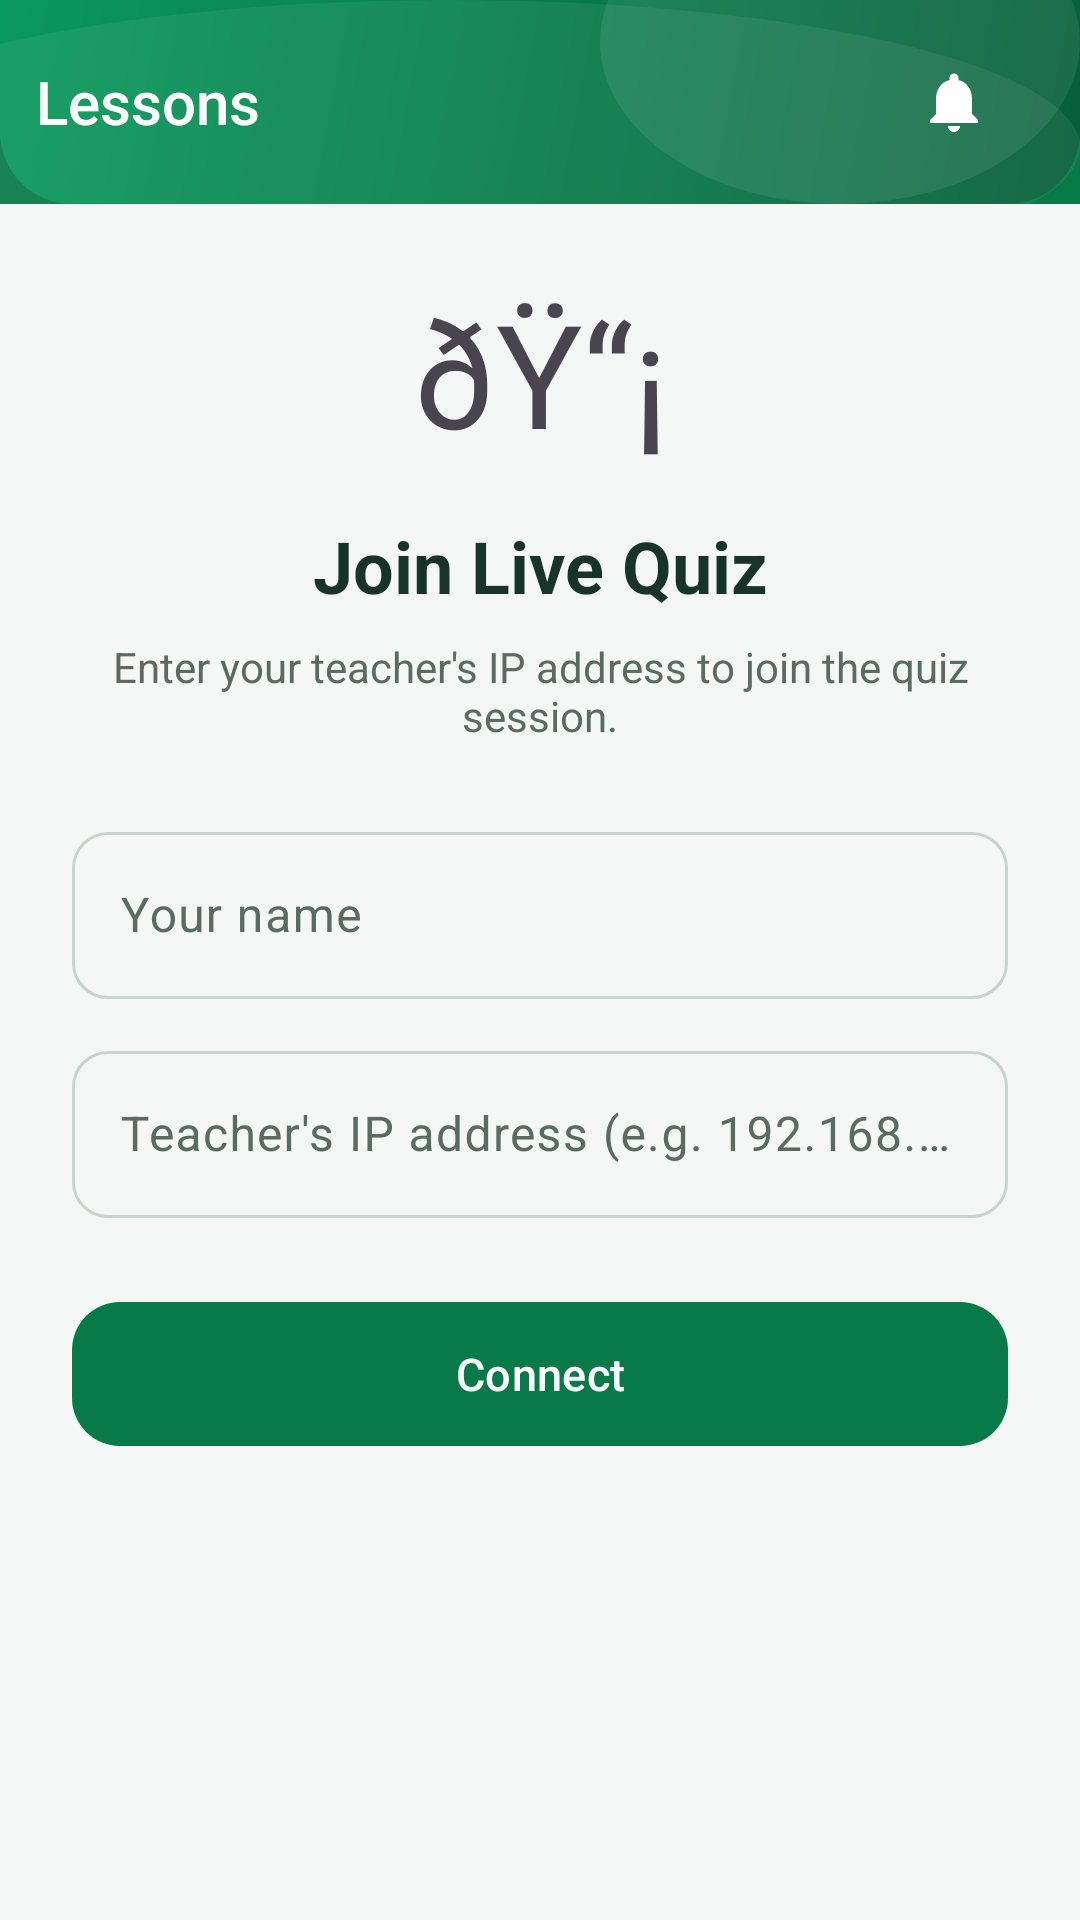

Screen size 1080px x 1920px. Icon name, then its box in pixels as (x1, y1, x2, y2):
Notifications: (930, 73, 978, 132)
